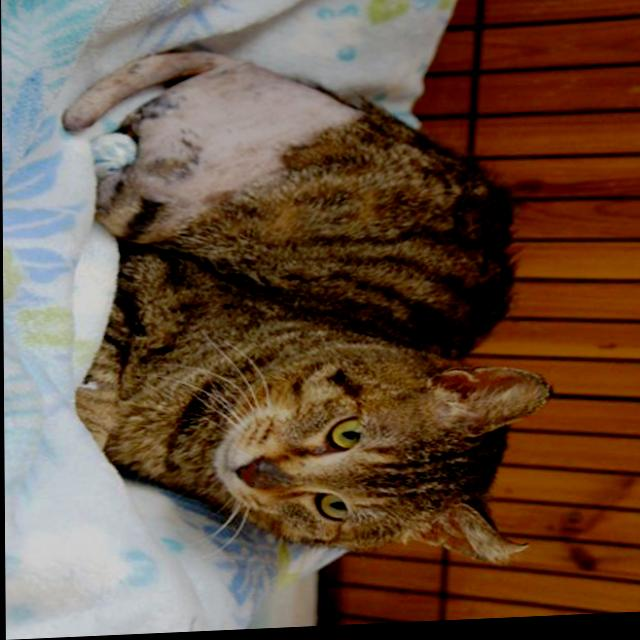hairloss: (71, 53, 339, 203)
